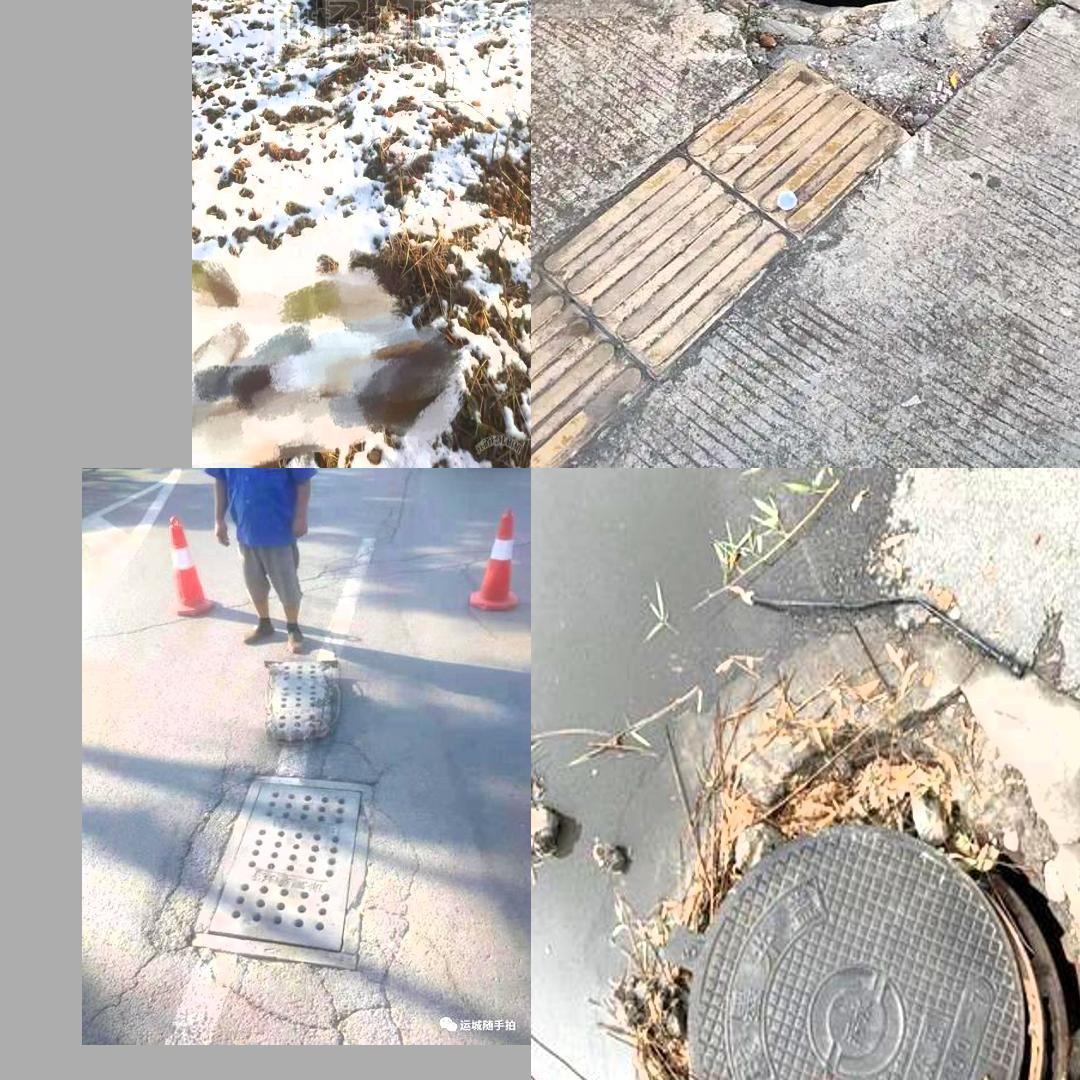circle: (596, 612, 1080, 1080), (140, 751, 429, 1024), (587, 0, 1080, 111), (311, 0, 433, 32)
